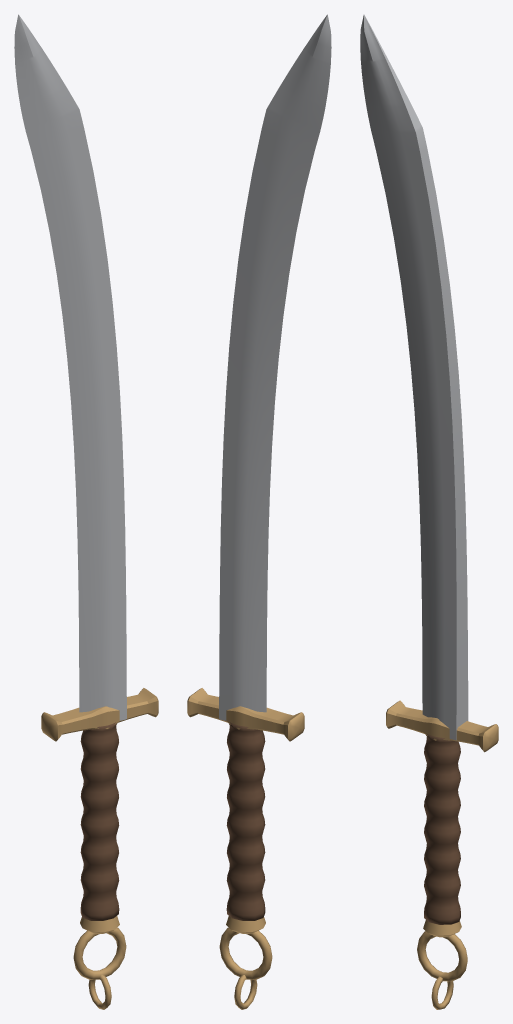
Rendered from temple-sword.glb.
3 views of the same model, side by side, from view 1: azimuth 30°, elevation 25°; view 2: azimuth 150°, elevation 25°; view 3: azimuth 330°, elevation 25° (orthographic). The views are drawn at different scales.
Parts seen in each view (by area): view 1: temple-sword; view 2: temple-sword; view 3: temple-sword.
Part boxes in pixels (box(x1,y1,x2,y2)): temple-sword: box(14, 14, 158, 1009); temple-sword: box(187, 14, 331, 1009); temple-sword: box(360, 14, 498, 1009).
Size of the model in its own units: 0.2853 by 1.99 by 0.0714.
